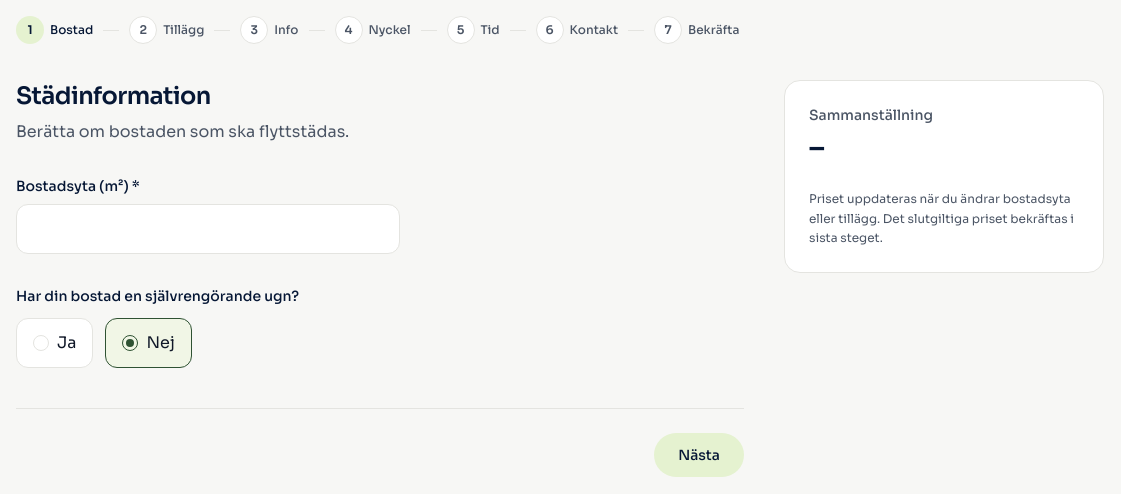
BookingWizard step 1 -> step 2 › advances to Tilläggstjänster when area is valid and Nästa is clicked
Check: the heading "Städinformation" is shown, box [16, 81, 211, 111]
In the number field labelled "Bostadsyta (m²) *": (208, 229) [16, 204, 400, 254], type "55"
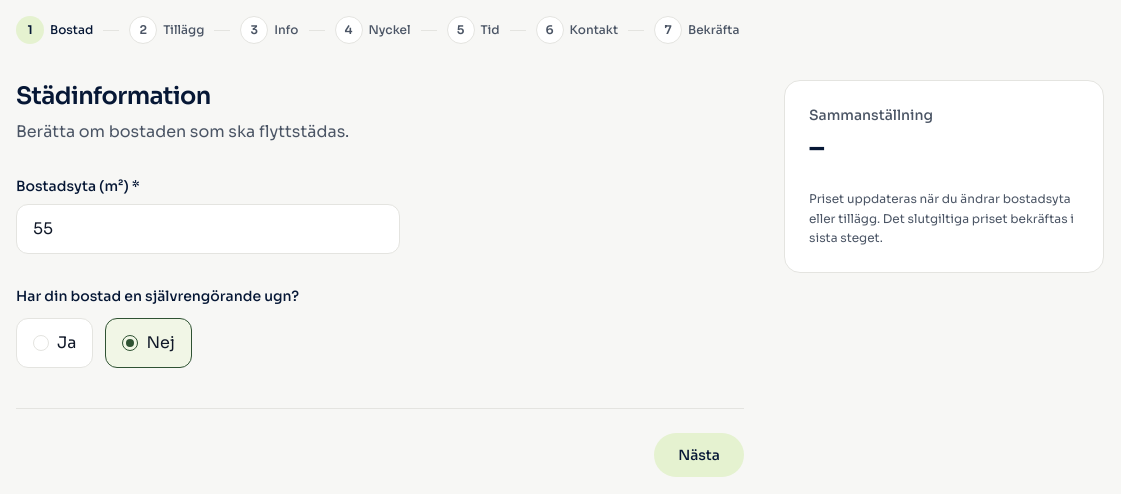
Click the button "Nästa": click(699, 455) [654, 433, 744, 477]
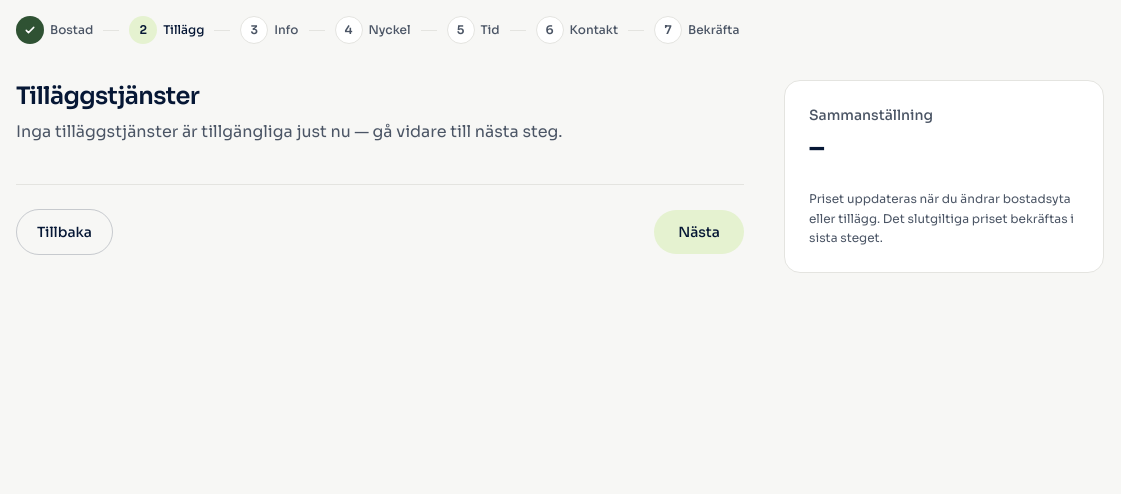
Check: the heading "Tilläggstjänster" is shown, box [16, 81, 199, 111]
